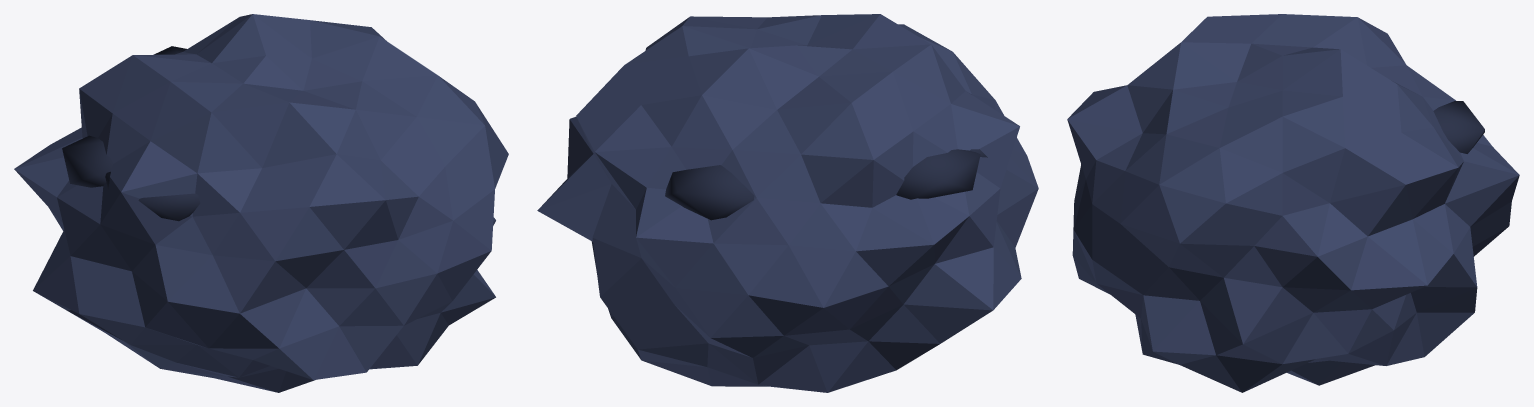
Rendered from asteroid_b.glb.
The picture shows the model from 3 angles, left to right: view 1: azimuth 30°, elevation 25°; view 2: azimuth 150°, elevation 25°; view 3: azimuth 270°, elevation 25°; orthographic projection. The views are drawn at different scales.
Parts seen in each view (by area): view 1: asteroid_b; view 2: asteroid_b; view 3: asteroid_b.
Part boxes in pixels (x1,y1,x2,y2): asteroid_b: [14, 14, 508, 392]; asteroid_b: [537, 14, 1038, 392]; asteroid_b: [1067, 14, 1519, 392].
Size of the model in its own units: 1.98 by 1.53 by 1.92.
